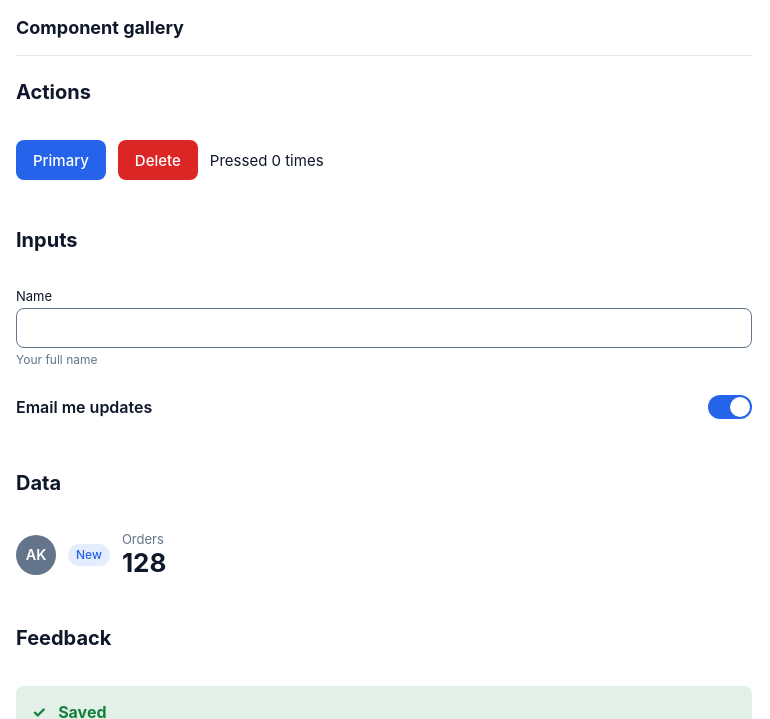
Test: the gallery home renders and its demo button works
Expected: the heading "Component gallery" is shown, x1=16 y1=16 x2=184 y2=38
Expected: the text "Pressed 0 times" is shown, x1=210 y1=150 x2=324 y2=170
Step 1. Click the button "Primary" → point(61, 160), box x1=16 y1=140 x2=106 y2=180
(page scrolled)
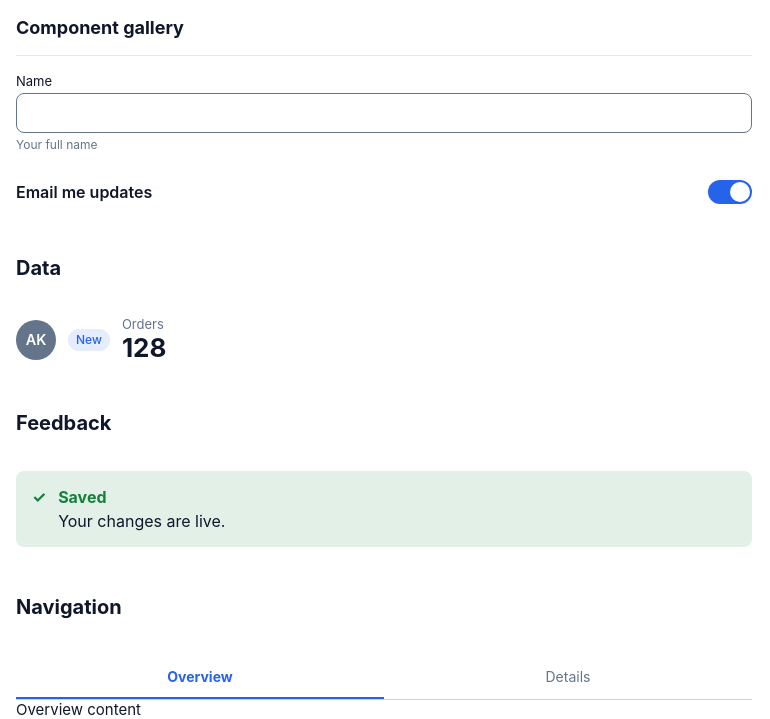
Step 2. Click the tab "Details" → point(568, 677), box x1=384 y1=655 x2=752 y2=699
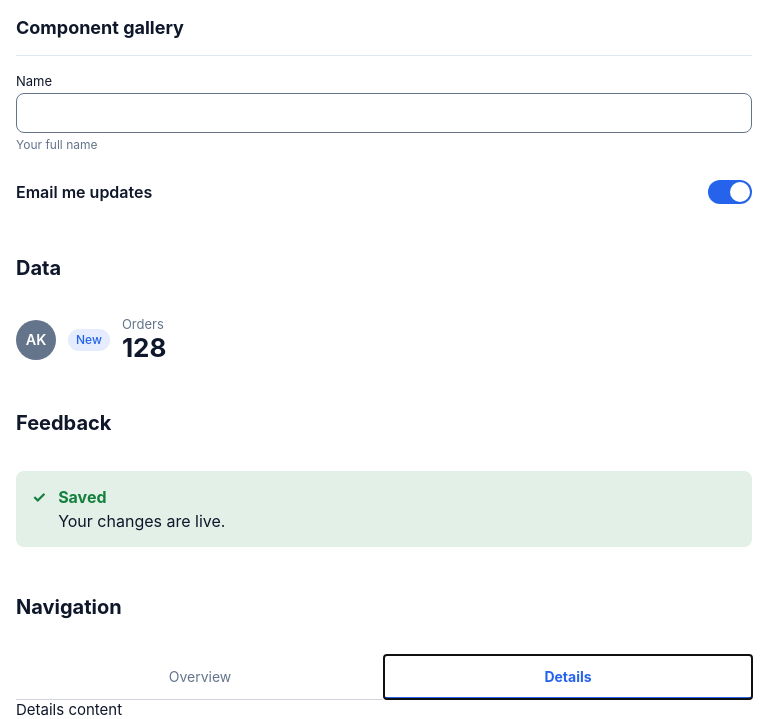
Result: the text "Details content" is shown at x1=16 y1=700 x2=122 y2=718
